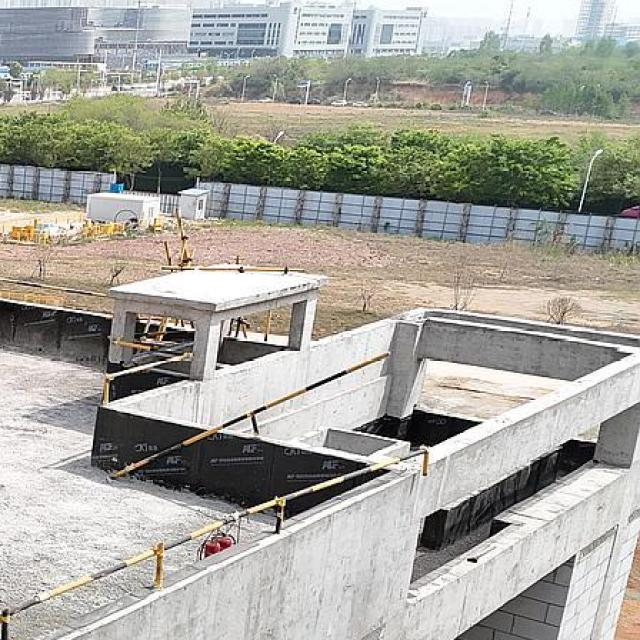edge_guardrail: (1, 448, 429, 640), (112, 349, 391, 481), (100, 355, 184, 405), (0, 277, 109, 297), (112, 339, 152, 352), (134, 329, 195, 336)
